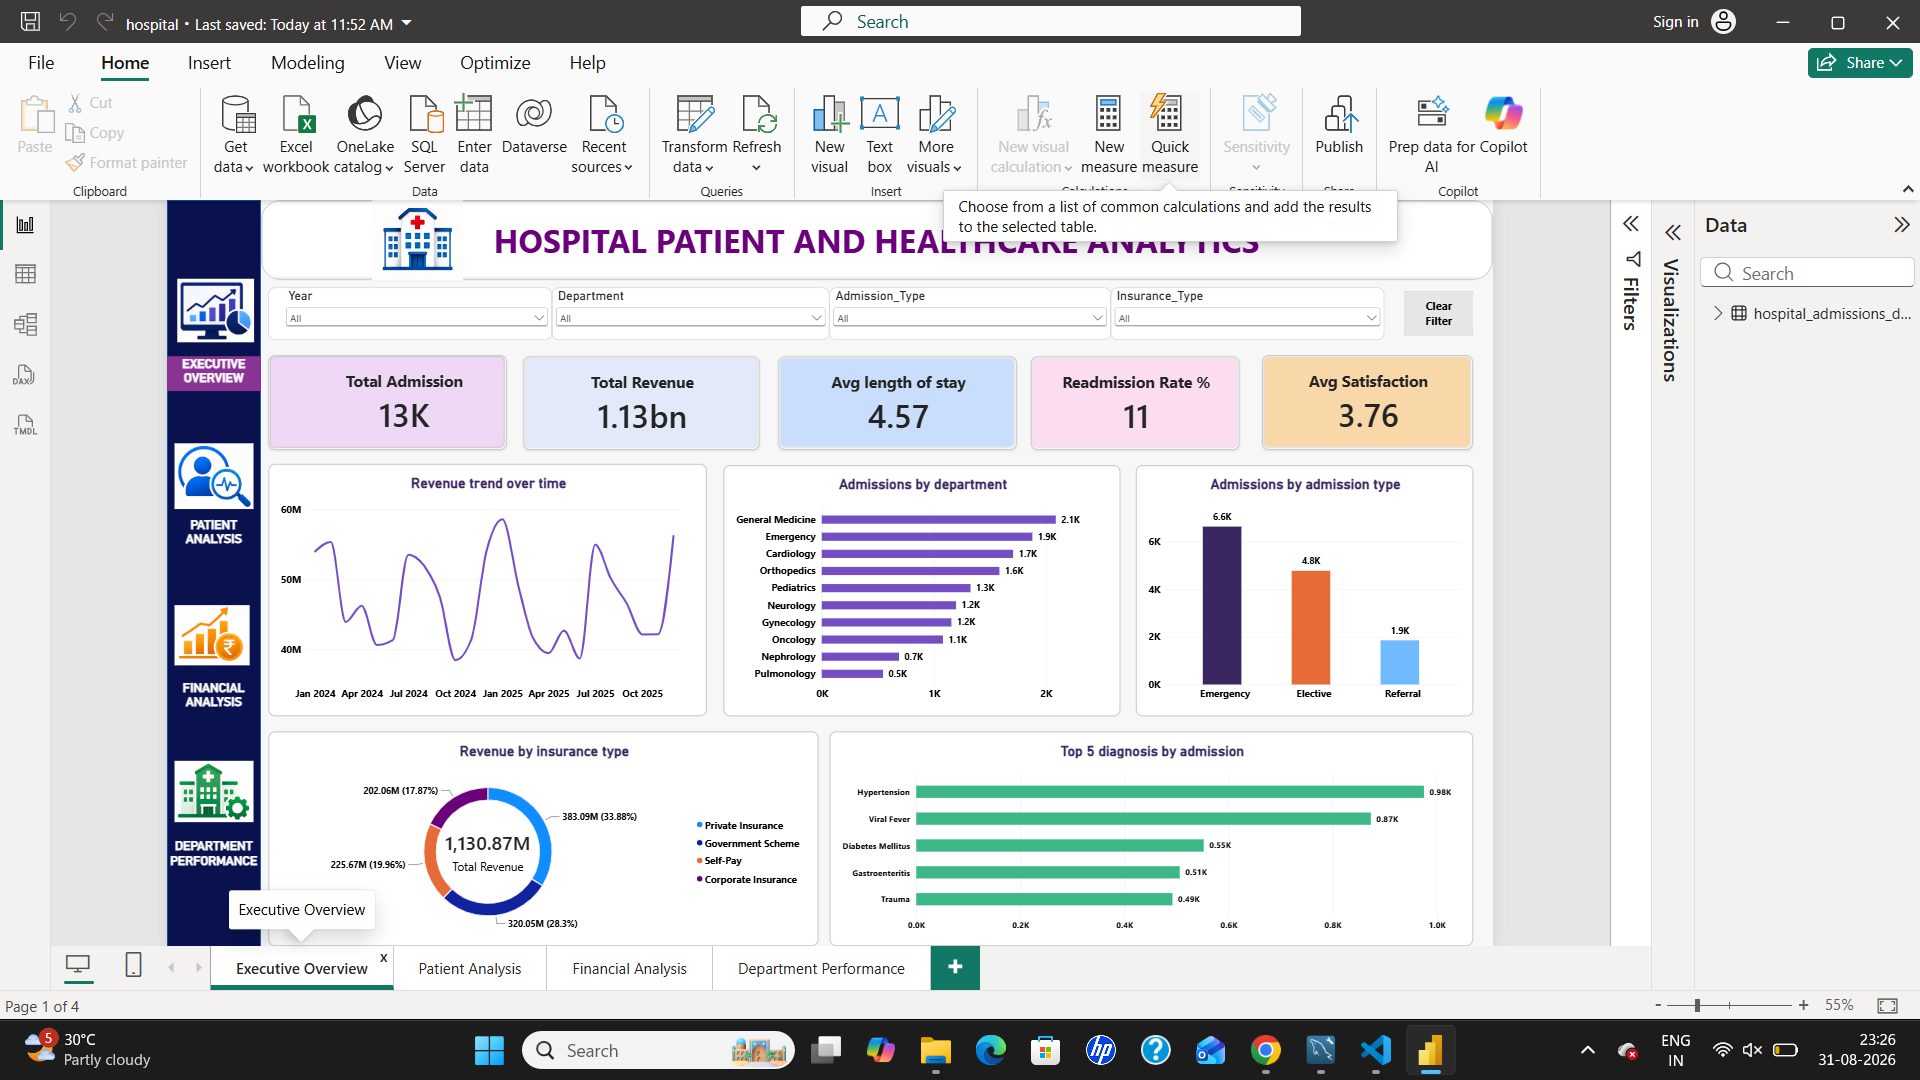

The dashboard page shown, as its layout file describes it:
{"tool":"powerbi","page":{"name":"Executive Overview","canvas":[1920,1080],"ordinal":0},"visuals":[{"type":"shape","box":[135.7,0,1784.3,115.8],"z":0},{"type":"shape","box":[0,0,135.7,1081],"z":1000},{"type":"cardVisual","fields":{"Data":["hospital_admissions_data.Total Admission"]},"box":[146.6,224.4,345.6,137.5],"z":2000},{"type":"cardVisual","fields":{"Data":["hospital_admissions_data.Total Revenue"]},"box":[515.8,226.2,342,135.7],"z":3000},{"type":"cardVisual","fields":{"Data":["hospital_admissions_data.Avg length of stay"]},"box":[884.9,226.2,345.6,135.7],"z":4000},{"type":"cardVisual","fields":{"Data":["hospital_admissions_data.Readmission Rate %"]},"box":[1250.5,226.2,302.2,135.7],"z":5000},{"type":"cardVisual","fields":{"Data":["hospital_admissions_data.Avg Satisfaction"]},"box":[1585.3,224.4,305.8,137.5],"z":6000},{"type":"slicer","fields":{"Values":["hospital_admissions_data.department"]},"box":[557.4,126.7,401.7,76],"z":7000},{"type":"slicer","fields":{"Values":["hospital_admissions_data.admission_date.Variation.Date Hierarchy.Year"]},"box":[146.6,126.7,410.8,76],"z":8000},{"type":"slicer","fields":{"Values":["hospital_admissions_data.admission_type"]},"box":[959.1,126.7,407.2,76],"z":9000},{"type":"slicer","fields":{"Values":["hospital_admissions_data.insurance_type"]},"box":[1366.3,126.7,396.3,76],"z":10000},{"type":"lineChart","title":"Revenue trend over time","fields":{"Y":["hospital_admissions_data.Total Revenue"],"Category":["hospital_admissions_data.admission_date.Variation.Date Hierarchy.Year","hospital_admissions_data.admission_date.Variation.Date Hierarchy.Month"]},"box":[146.6,381.8,635.2,365.6],"z":11000},{"type":"clusteredBarChart","title":"Admissions by department","fields":{"Category":["hospital_admissions_data.department"],"Y":["hospital_admissions_data.Total Admission"]},"box":[805.3,383.6,575.5,363.7],"z":12000},{"type":"clusteredColumnChart","title":"Admissions by admission type","fields":{"Category":["hospital_admissions_data.admission_type"],"Y":["hospital_admissions_data.Total Admission"]},"box":[1402.5,383.6,488.6,363.7],"z":13000},{"type":"donutChart","title":"Revenue by insurance type","fields":{"Category":["hospital_admissions_data.insurance_type"],"Y":["hospital_admissions_data.Total Revenue"]},"box":[146.6,769.1,796.8,311.6],"z":14000},{"type":"clusteredBarChart","title":"Top 5 diagnosis by admission","fields":{"Category":["hospital_admissions_data.diagnosis"],"Y":["hospital_admissions_data.Total Admission"]},"box":[959.1,769.1,932,311.3],"z":15000},{"type":"actionButton","box":[1791.6,132.1,99.5,65.1],"z":16000},{"type":"image","box":[255.2,0,215.3,115.8],"z":17000},{"type":"textbox","title":"EXECUTIVE    OVERVIEW","box":[0,225.4,135.7,50.1],"z":18000},{"type":"textbox","title":"PATIENT ANALYSIS","box":[0,459.1,135.7,50.1],"z":19000},{"type":"textbox","title":"FINANCIAL ANALYSIS","box":[0,695,135.7,52.2],"z":20000},{"type":"textbox","title":"DEPARTMENT PERFORMANCE","box":[0,924.5,135.7,50.1],"z":21000},{"type":"image","box":[10.4,340.2,114.8,119],"z":22000},{"type":"image","box":[10.4,114.8,119,91.8],"z":23000},{"type":"image","box":[10.4,580.2,108.5,98.1],"z":24000},{"type":"image","box":[10.4,807.7,114.8,98.1],"z":25000}]}

Visuals, with their boxes on the page's 1920x1080 design canvas (x1, y1, x2, y2). These are canvas units, not pixel positions in the 1920x1080 screenshot, which may show the page scaled, cropped or inside an application window:
shape: bbox=[136, 0, 1920, 116]
shape: bbox=[0, 0, 136, 1081]
cardVisual - hospital_admissions_data.Total Admission: bbox=[147, 224, 492, 362]
cardVisual - hospital_admissions_data.Total Revenue: bbox=[516, 226, 858, 362]
cardVisual - hospital_admissions_data.Avg length of stay: bbox=[885, 226, 1230, 362]
cardVisual - hospital_admissions_data.Readmission Rate %: bbox=[1250, 226, 1553, 362]
cardVisual - hospital_admissions_data.Avg Satisfaction: bbox=[1585, 224, 1891, 362]
slicer - hospital_admissions_data.department: bbox=[557, 127, 959, 203]
slicer - hospital_admissions_data.admission_date.Variation.Date Hierarchy.Year: bbox=[147, 127, 557, 203]
slicer - hospital_admissions_data.admission_type: bbox=[959, 127, 1366, 203]
slicer - hospital_admissions_data.insurance_type: bbox=[1366, 127, 1763, 203]
"Revenue trend over time" lineChart: bbox=[147, 382, 782, 747]
"Admissions by department" clusteredBarChart: bbox=[805, 384, 1381, 747]
"Admissions by admission type" clusteredColumnChart: bbox=[1402, 384, 1891, 747]
"Revenue by insurance type" donutChart: bbox=[147, 769, 943, 1081]
"Top 5 diagnosis by admission" clusteredBarChart: bbox=[959, 769, 1891, 1080]
actionButton: bbox=[1792, 132, 1891, 197]
image: bbox=[255, 0, 470, 116]
"EXECUTIVE    OVERVIEW" textbox: bbox=[0, 225, 136, 276]
"PATIENT ANALYSIS" textbox: bbox=[0, 459, 136, 509]
"FINANCIAL ANALYSIS" textbox: bbox=[0, 695, 136, 747]
"DEPARTMENT PERFORMANCE" textbox: bbox=[0, 924, 136, 975]
image: bbox=[10, 340, 125, 459]
image: bbox=[10, 115, 129, 207]
image: bbox=[10, 580, 119, 678]
image: bbox=[10, 808, 125, 906]
